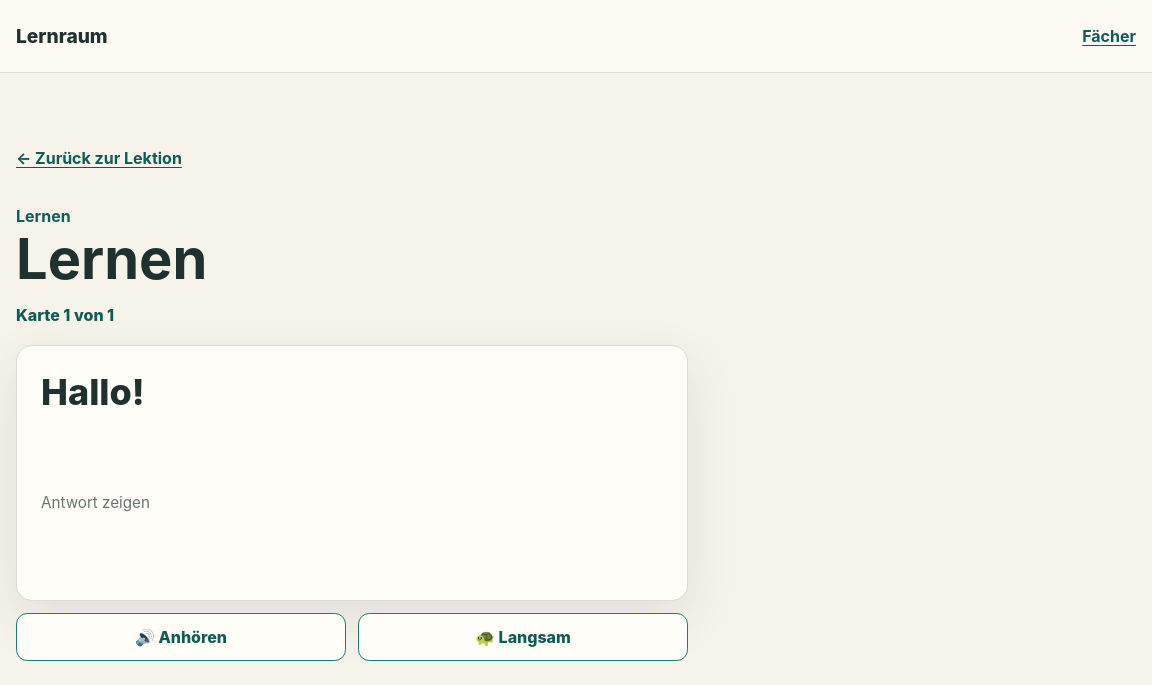
LearnMode › shows a German prompt and Spanish answer for the reverse direction
This screenshot has width=1152, height=685.
Expected: the text "Hallo!" is shown, [41,370,145,414]
Click the button "Hallo! Antwort zeigen". click: (352, 473)
box: [16,345,688,601]
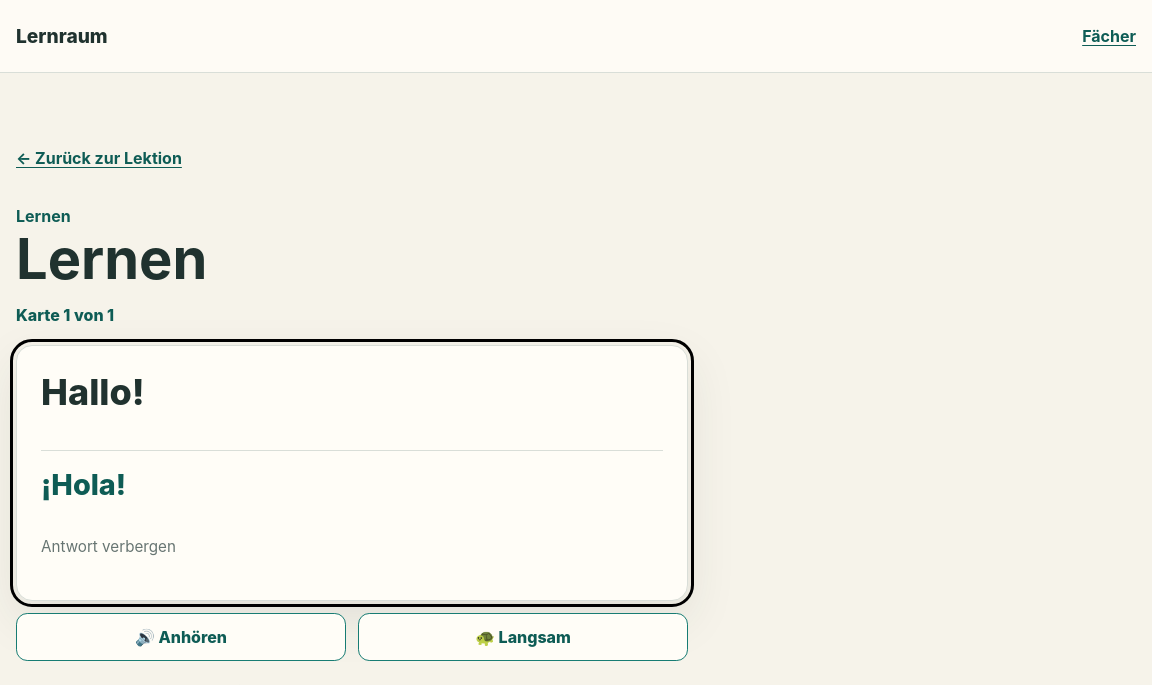
Expected: the text "¡Hola!" is shown, [41,450,663,502]
